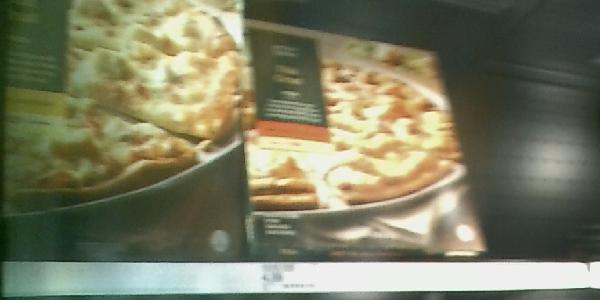pizza1: (1, 1, 244, 267), (240, 17, 494, 257)
